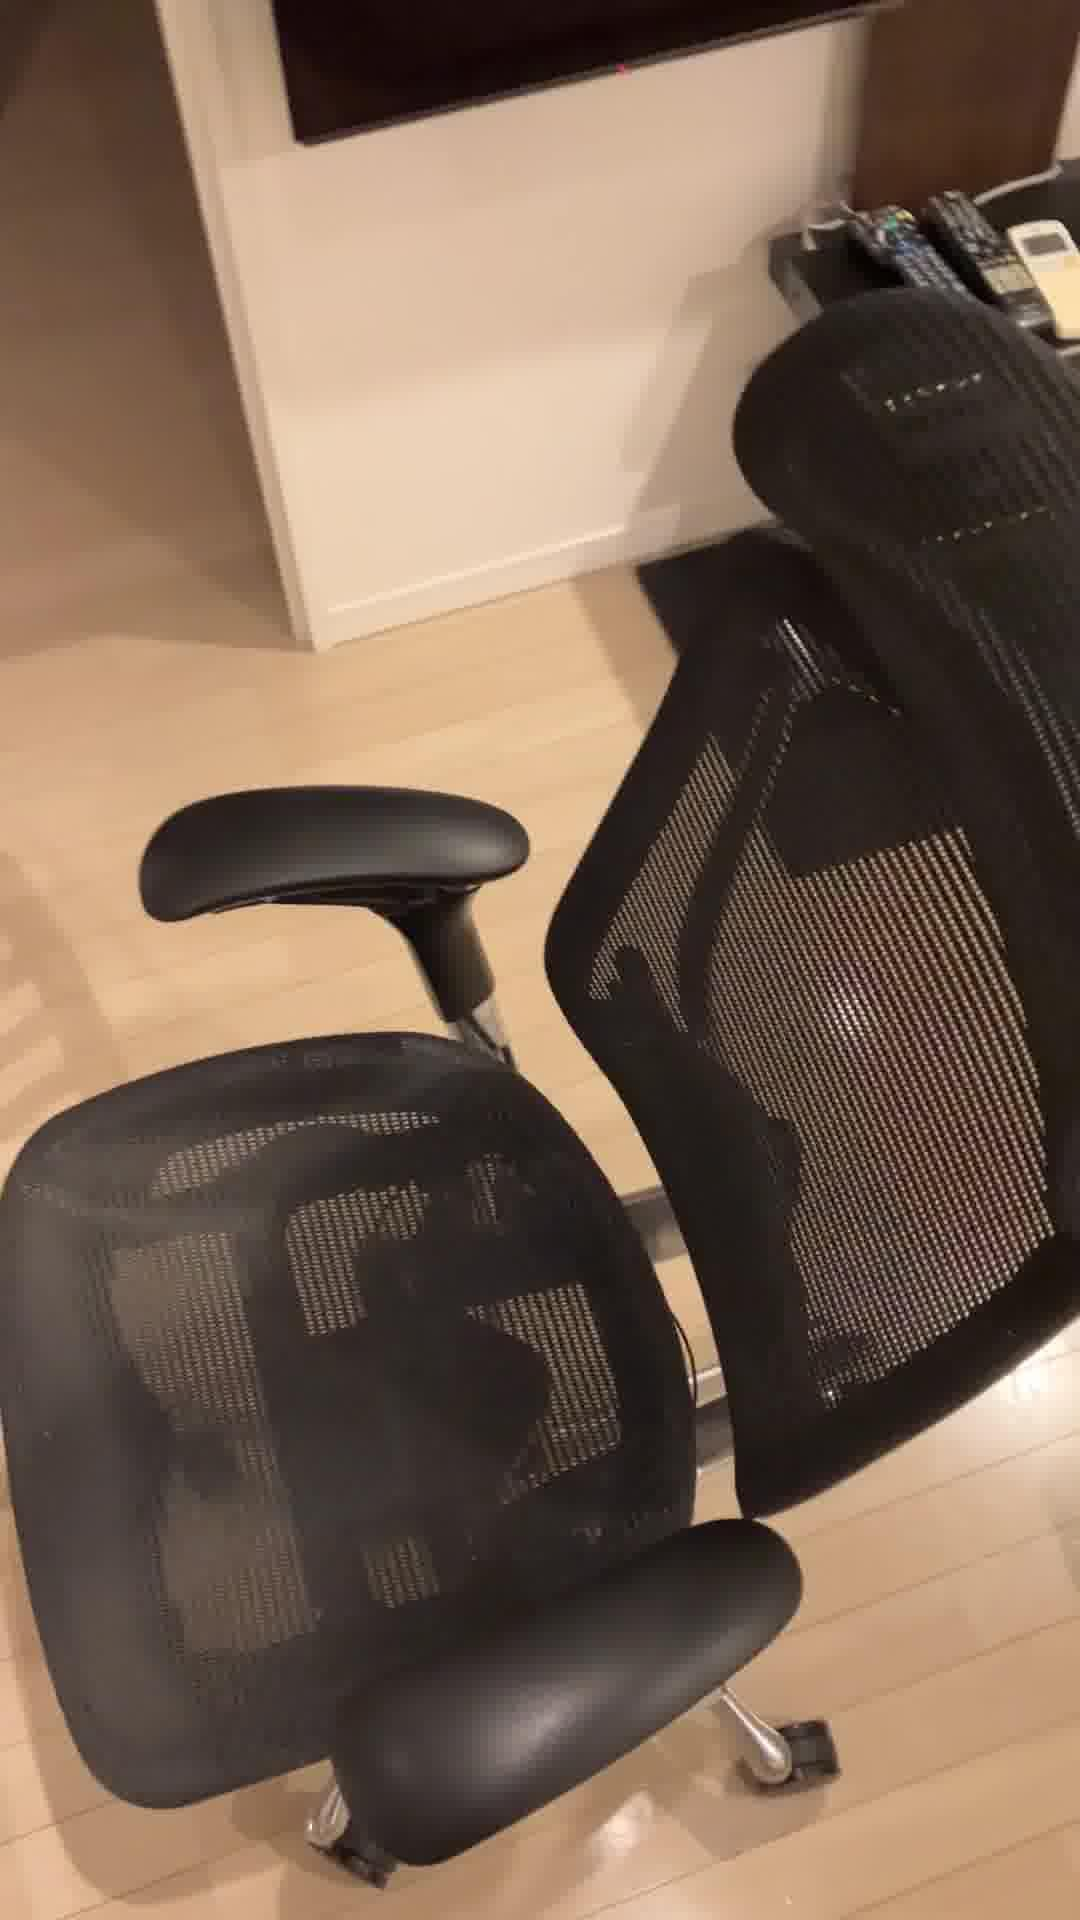okamura-contessa: (0, 284, 1080, 1886)
